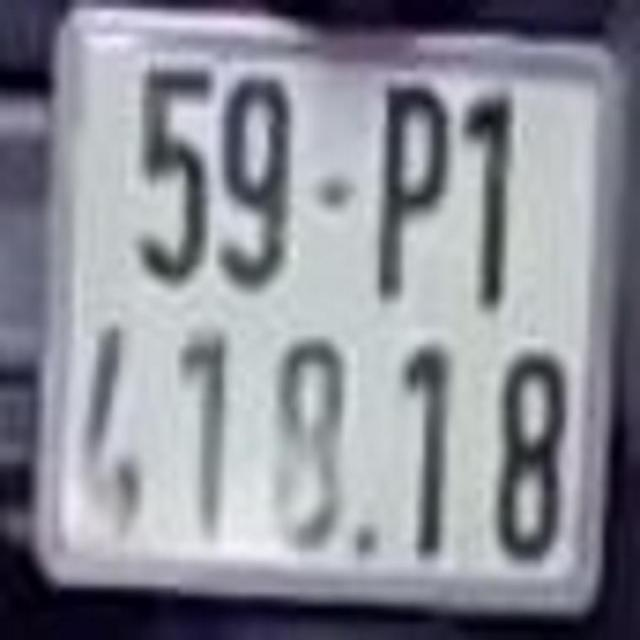1: (173, 321, 246, 544), (392, 333, 462, 564), (460, 80, 528, 314)
4: (72, 318, 146, 542)
5: (140, 54, 214, 284)
8: (490, 332, 570, 567), (272, 324, 347, 558)
9: (222, 61, 292, 296)
P: (375, 76, 454, 304)
